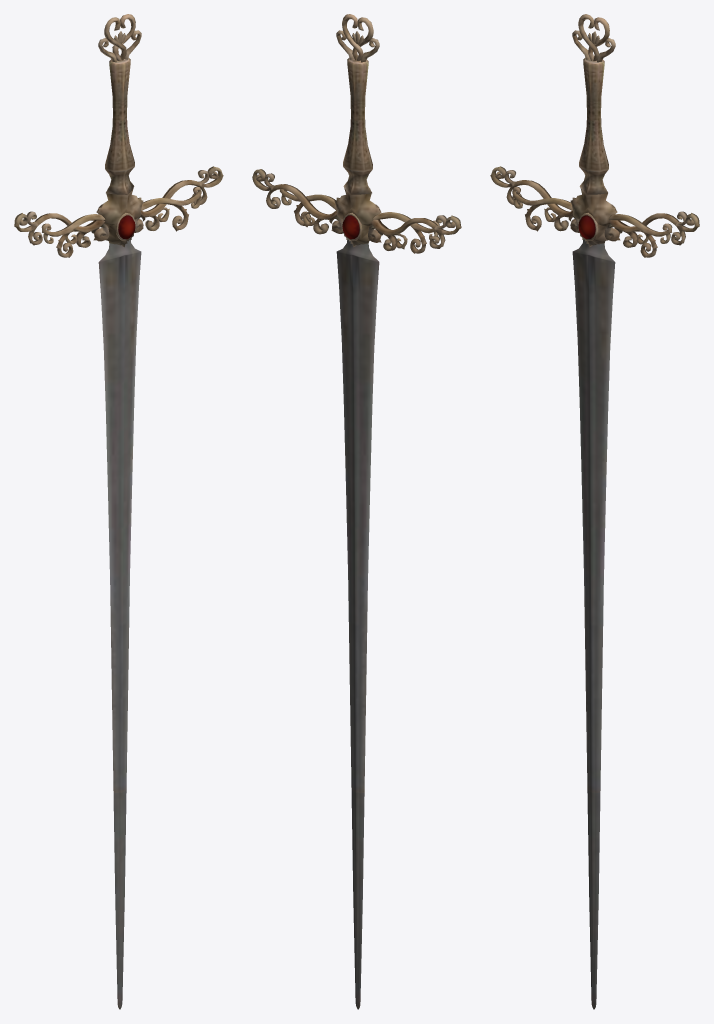
The model's file is weapon-wp_a_0251.glb.
The picture shows the model from 3 angles, left to right: view 1: azimuth 30°, elevation 25°; view 2: azimuth 150°, elevation 25°; view 3: azimuth 330°, elevation 25°; orthographic projection.
Parts seen in each view (by area): view 1: wp_a_0251_mesh; view 2: wp_a_0251_mesh; view 3: wp_a_0251_mesh.
Part boxes in pixels (x1,y1,x2,y2): wp_a_0251_mesh: (14, 14, 223, 1009); wp_a_0251_mesh: (252, 14, 461, 1009); wp_a_0251_mesh: (490, 14, 699, 1009).
Bounding box in the file's own units: 0.2918 × 1.32 × 0.046.
1 material, 1 textured.
